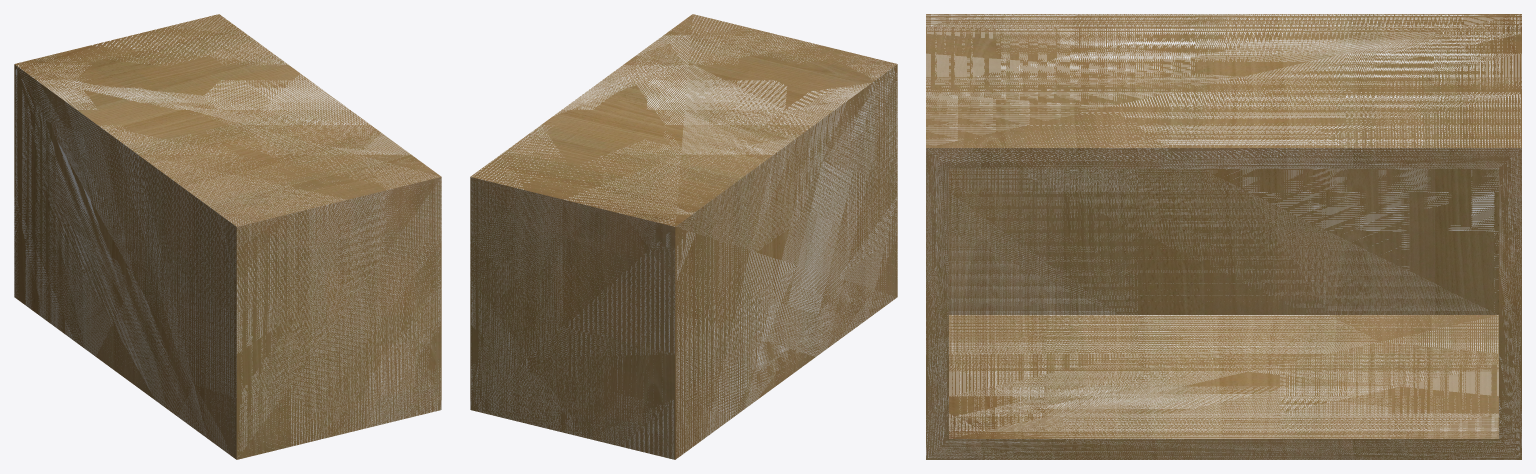
File: self_made_shelf.dae
3 views of the same model, side by side, from view 1: azimuth 30°, elevation 25°; view 2: azimuth 150°, elevation 25°; view 3: azimuth 270°, elevation 25° (orthographic). The views are drawn at different scales.
Parts seen in each view (by area): view 1: SketchUp (×2); view 2: SketchUp (×2); view 3: SketchUp (×4).
Part boxes in pixels (x1,y1,x2,y2): SketchUp (×2): (14, 14, 441, 459); SketchUp (×2): (470, 14, 897, 459); SketchUp (×4): (926, 14, 1521, 459).
Size of the model in its own units: 0.3403 by 0.6395 by 0.3696.
4 materials, 3 textured.
